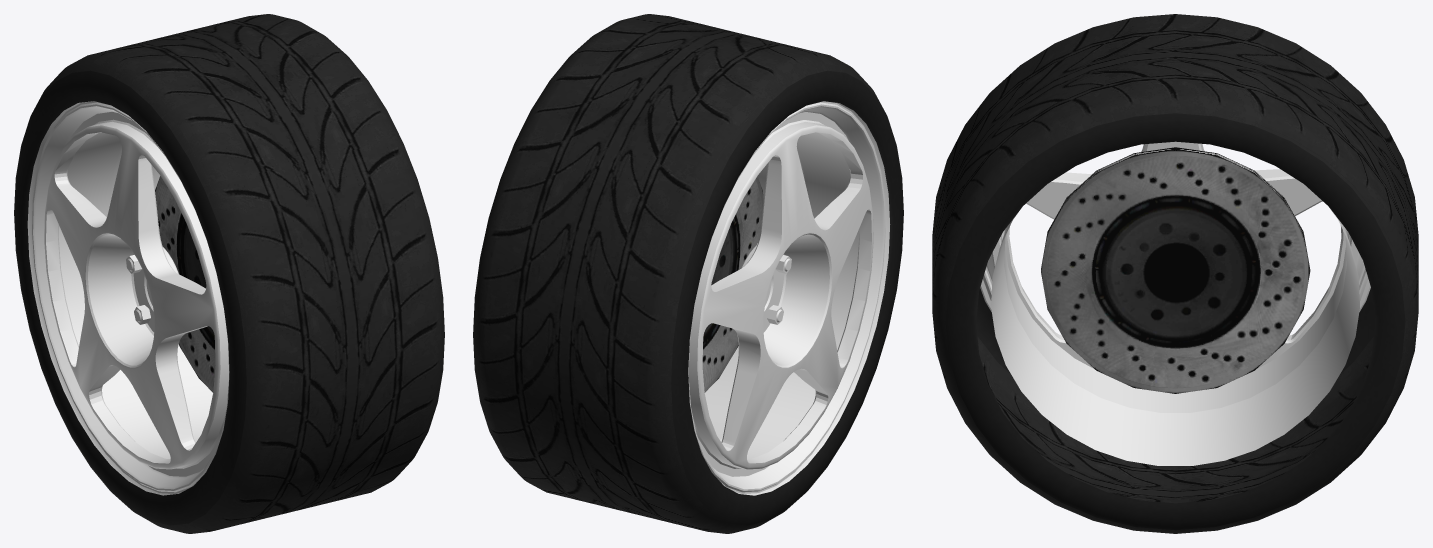
File: 13_Rota_SlipStream.fbx
3 views of the same model, side by side, from view 1: azimuth 30°, elevation 25°; view 2: azimuth 150°, elevation 25°; view 3: azimuth 270°, elevation 25° (orthographic).
Parts seen in each view (by area): view 1: Combined No Name Object 0, Rota_SlipStream, Combined co_contisportcontact_2_vmax_wall Object 0, Rotor; view 2: Combined No Name Object 0, Rota_SlipStream, Combined co_contisportcontact_2_vmax_wall Object 0, Rotor; view 3: Combined No Name Object 0, Rotor, Combined co_contisportcontact_2_vmax_wall Object 0, Rota_SlipStream.
Boxes of the visible parts, x1,y1,x2,y2 form: Combined No Name Object 0: (14,14,444,533); Rota_SlipStream: (27,101,229,495); Combined co_contisportcontact_2_vmax_wall Object 0: (14,70,246,525); Rotor: (155,176,215,392); Combined No Name Object 0: (473,14,903,533); Rota_SlipStream: (688,101,890,495); Combined co_contisportcontact_2_vmax_wall Object 0: (671,70,903,525); Rotor: (702,176,763,392); Combined No Name Object 0: (932,14,1418,533); Rotor: (1041,147,1310,393); Combined co_contisportcontact_2_vmax_wall Object 0: (945,113,1405,530); Rota_SlipStream: (980,141,1370,465).
Bounding box in the file's own units: 0.3434 × 0.688 × 0.688.
